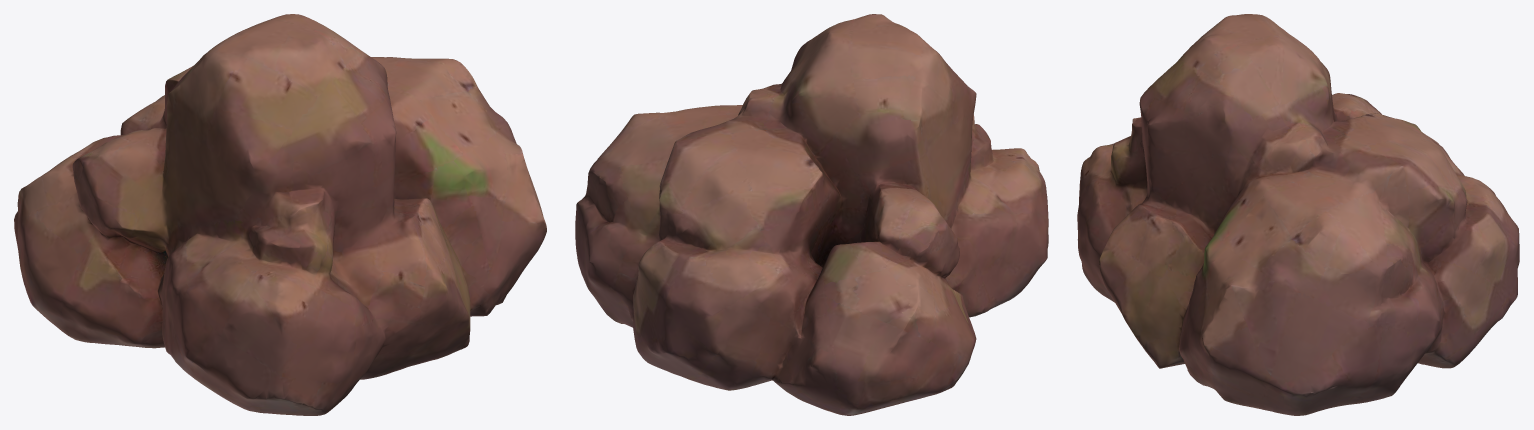
3 views of the same model, side by side, from view 1: azimuth 30°, elevation 25°; view 2: azimuth 150°, elevation 25°; view 3: azimuth 270°, elevation 25° (orthographic). The views are drawn at different scales.
Size of the model in its own units: 1.9 by 1.28 by 1.82.
Materials: 1 (1 with a texture image).
